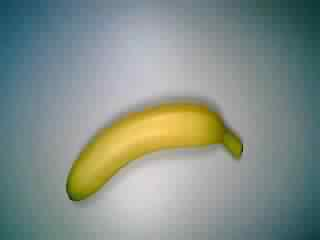banana: (63, 101, 248, 202)
